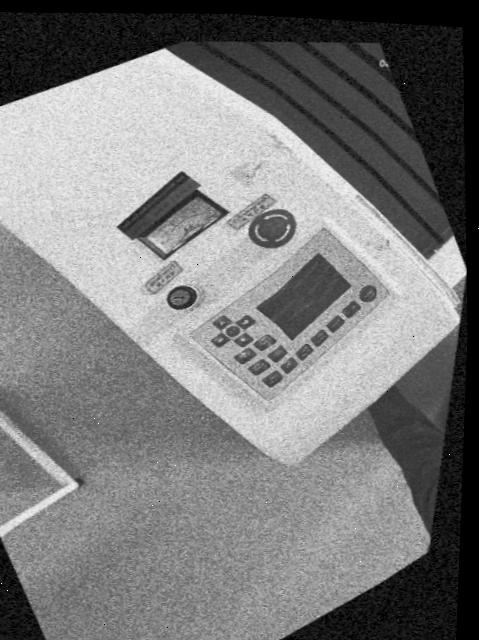Amp_Meter: (139, 196, 222, 258)
Display: (257, 254, 351, 341)
Down_button: (234, 333, 253, 348)
Emergency_Stop: (248, 209, 296, 248)
Enter_button: (235, 348, 256, 364)
Esc_button: (253, 335, 276, 351)
File_button: (280, 358, 297, 374)
Frame_button: (248, 360, 270, 376)
Left_button: (236, 315, 255, 330)
Max-Power_button: (295, 344, 313, 361)
Min-Power_button: (311, 330, 328, 347)
Origin_button: (268, 346, 287, 363)
Power_switch: (166, 286, 202, 310)
Pulse_button: (342, 301, 360, 318)
Reset_button: (359, 285, 377, 302)
Right_button: (210, 333, 228, 347)
Speed_button: (326, 315, 344, 333)
Start-Pause_button: (262, 371, 282, 387)
Up_button: (212, 315, 231, 329)
Z_U_button: (226, 326, 240, 337)
